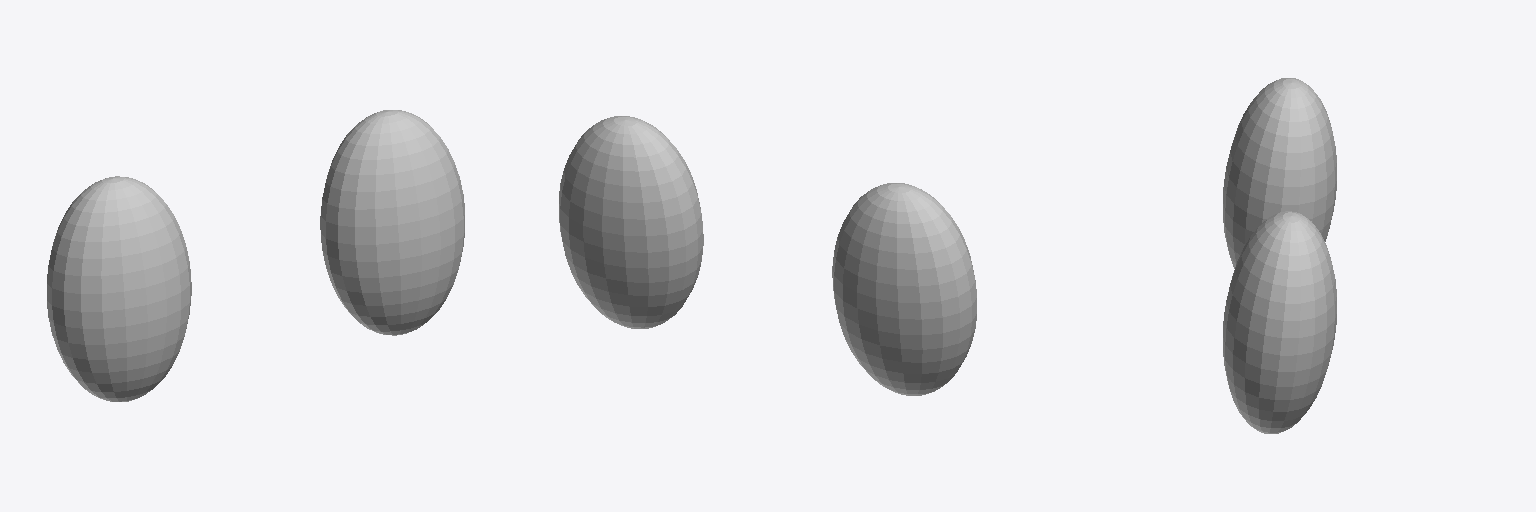
The model's file is eyes.obj.
3 renders of one model, left to right at view 1: azimuth 30°, elevation 25°; view 2: azimuth 150°, elevation 25°; view 3: azimuth 270°, elevation 25°, orthographic.
Visible parts, largest first — view 1: pasted__pSphere1 group, group pasted__pSphere2; view 2: pasted__pSphere1 group, group pasted__pSphere2; view 3: group pasted__pSphere2, pasted__pSphere1 group.
Part boxes in pixels (x1,y1,x2,y2): pasted__pSphere1 group: (47,176,191,401); group pasted__pSphere2: (320,110,464,335); pasted__pSphere1 group: (832,183,976,395); group pasted__pSphere2: (559,116,703,328); group pasted__pSphere2: (1223,211,1336,433); pasted__pSphere1 group: (1223,78,1336,268).
Bounding box in the file's own units: 2.58 × 1.29 × 0.6284.